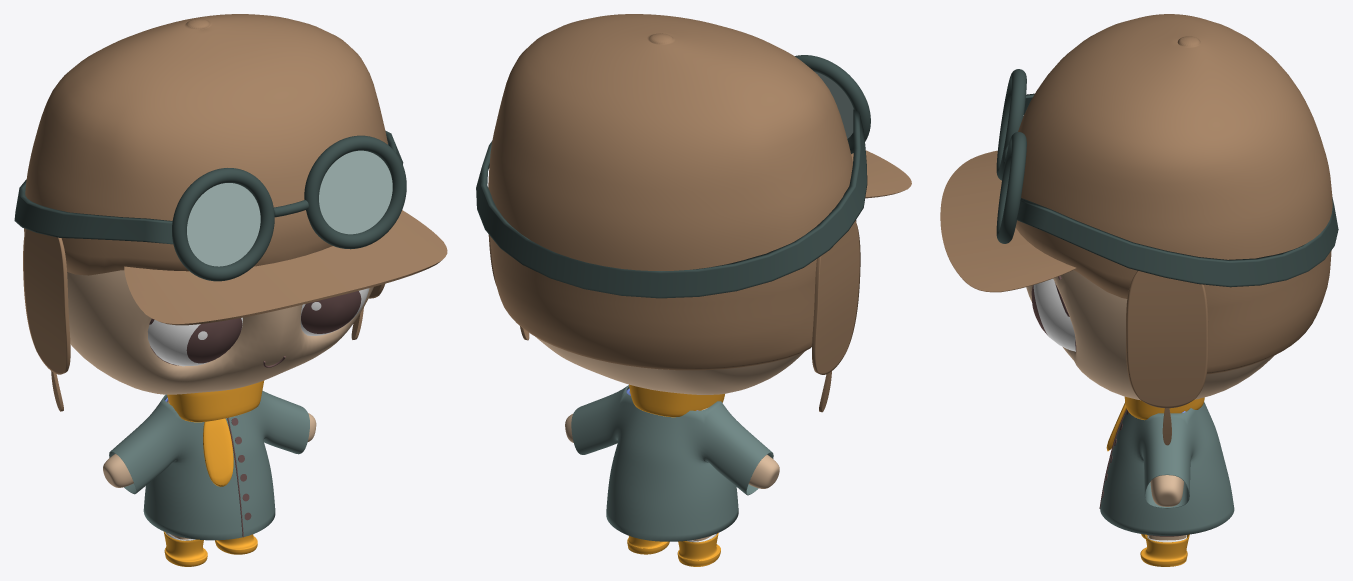
The model's file is Patt_colores_planos (1).fbx.
3 views of the same model, side by side, from view 1: azimuth 30°, elevation 25°; view 2: azimuth 150°, elevation 25°; view 3: azimuth 270°, elevation 25° (orthographic). The views are drawn at different scales.
Parts seen in each view (by area): view 1: Patt colores planos; view 2: Patt colores planos; view 3: Patt colores planos.
Part boxes in pixels (x1,y1,x2,y2): Patt colores planos: [14, 14, 447, 566]; Patt colores planos: [476, 14, 911, 566]; Patt colores planos: [940, 14, 1338, 566].
Bounding box in the file's own units: 588 × 842 × 597.
